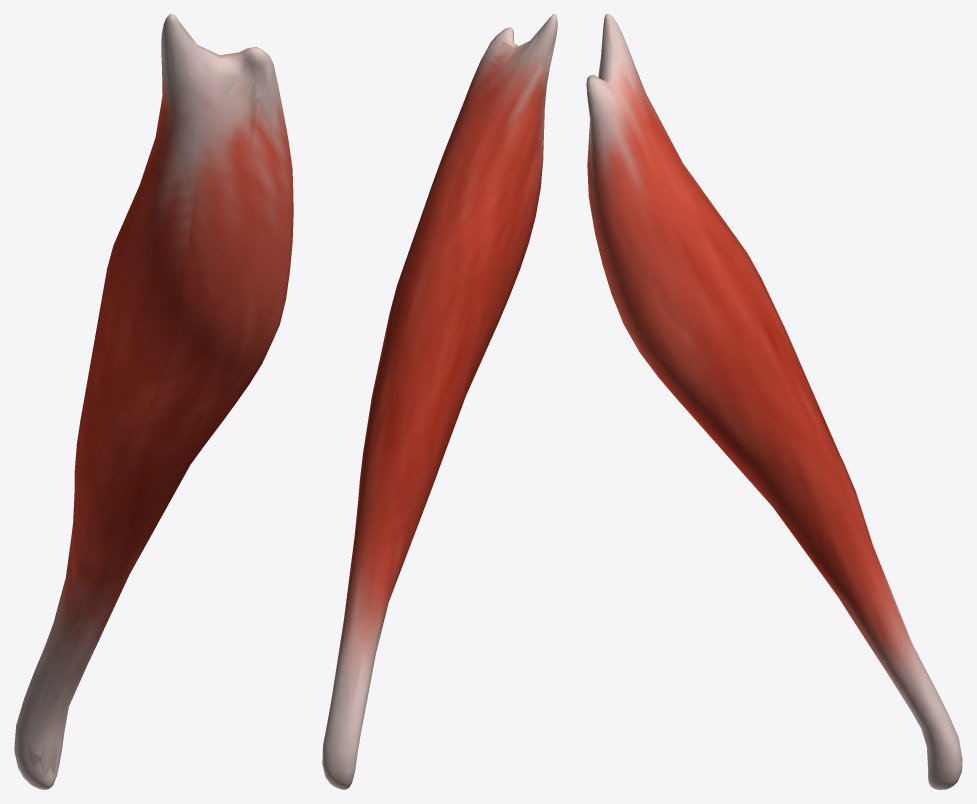
File: R Gastrocnemius.fbx
3 renders of one model, left to right at view 1: azimuth 30°, elevation 25°; view 2: azimuth 150°, elevation 25°; view 3: azimuth 270°, elevation 25°, orthographic. The views are drawn at different scales.
Parts seen in each view (by area): view 1: R Gastrocnemius, R Gastrocnemius low; view 2: R Gastrocnemius, R Gastrocnemius low; view 3: R Gastrocnemius, R Gastrocnemius low.
Boxes of the visible parts, box(x1,y1,x2,y2) form: R Gastrocnemius: box(14, 14, 293, 789); R Gastrocnemius low: box(15, 23, 292, 787); R Gastrocnemius: box(322, 14, 557, 789); R Gastrocnemius low: box(322, 17, 556, 788); R Gastrocnemius: box(586, 14, 962, 789); R Gastrocnemius low: box(587, 20, 957, 780).
Bounding box in the file's own units: 9.31 × 54.58 × 25.02.
